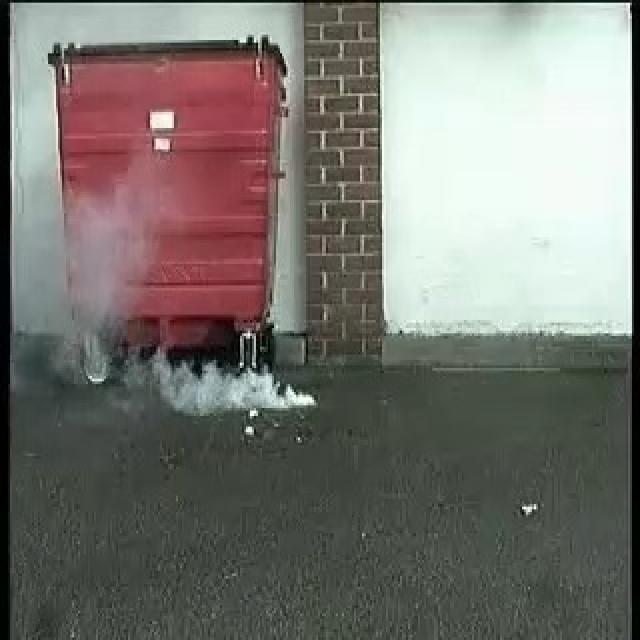smoke: (154, 362, 314, 416)
